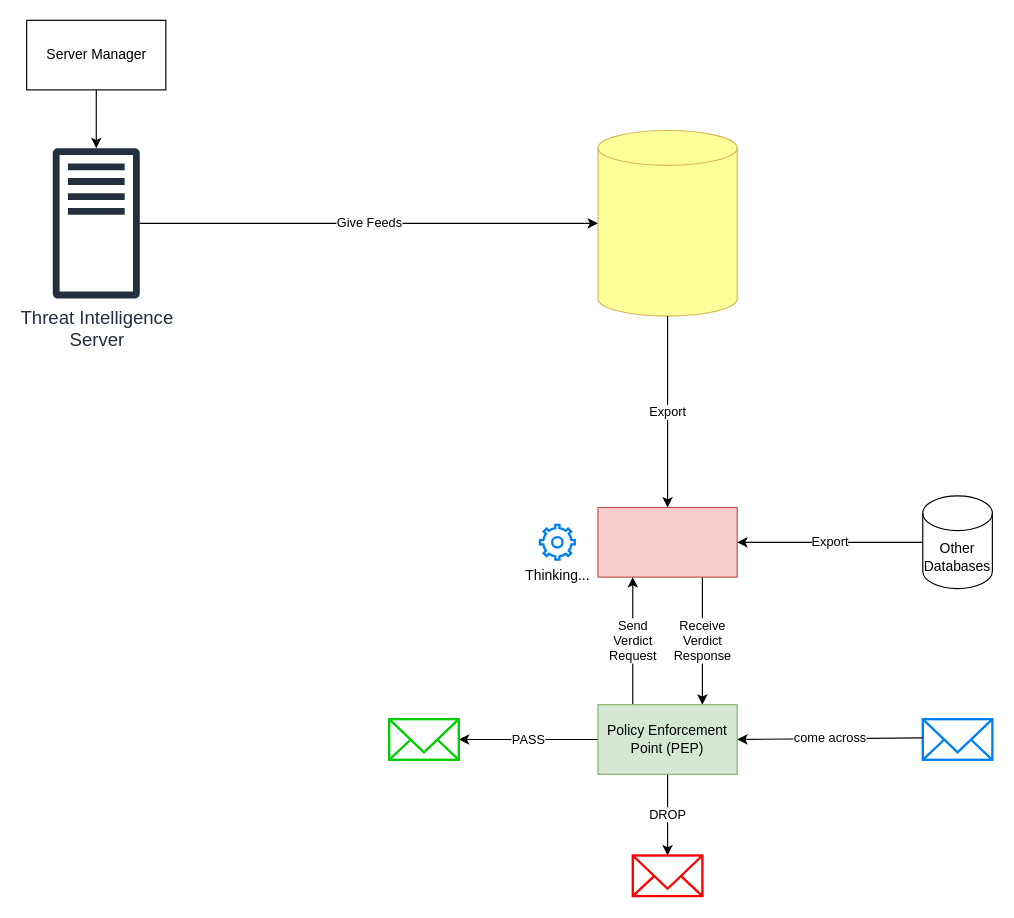
Some shapes in this 1014 by 918 pixel diagram are drawn without their labels. The shapes that lost their labels are listed below. From the top down, each one's centre as x and y in pixels, then its label:
At pixel 667 222: "Threat Intelligence Database".
At pixel 667 541: "Policy Engine (PE)".
